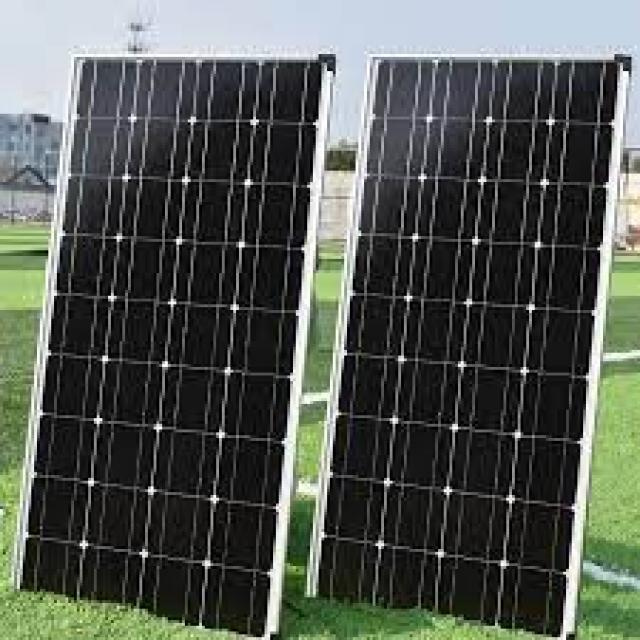no faulty: (19, 55, 338, 635), (315, 57, 631, 631)
